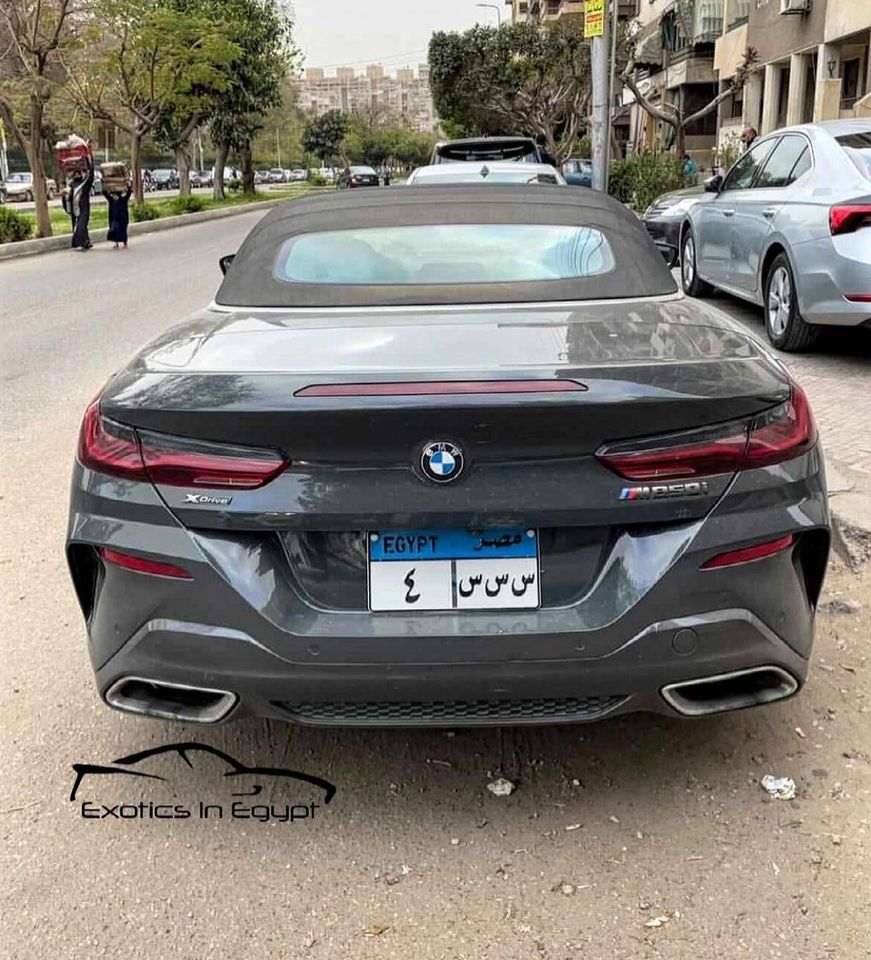carpl: (366, 527, 544, 608)
